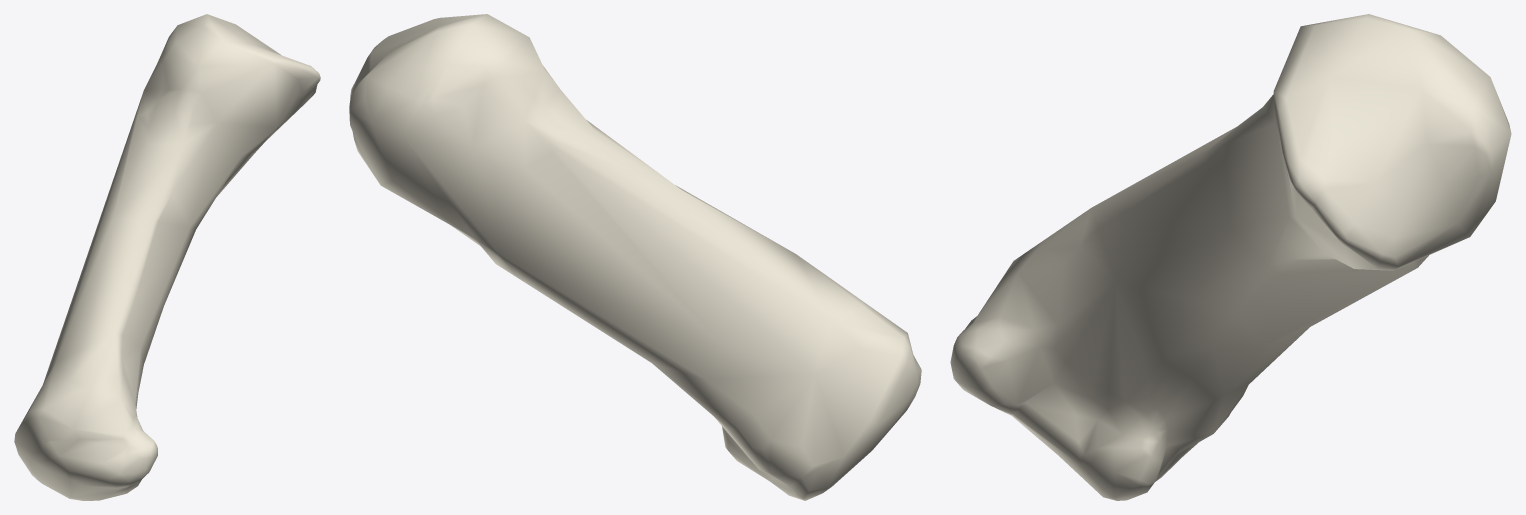
3 views of the same model, side by side, from view 1: azimuth 30°, elevation 25°; view 2: azimuth 150°, elevation 25°; view 3: azimuth 270°, elevation 25° (orthographic). The views are drawn at different scales.
Visible parts, largest first — view 1: ZA_0ca27c38f6ab39af; view 2: ZA_0ca27c38f6ab39af; view 3: ZA_0ca27c38f6ab39af.
Boxes of the visible parts, x1,y1,x2,y2 form: ZA_0ca27c38f6ab39af: [14, 14, 320, 500]; ZA_0ca27c38f6ab39af: [349, 14, 921, 500]; ZA_0ca27c38f6ab39af: [950, 14, 1511, 500].
Bounding box in the file's own units: 0.0387 × 0.0384 × 0.0315.
